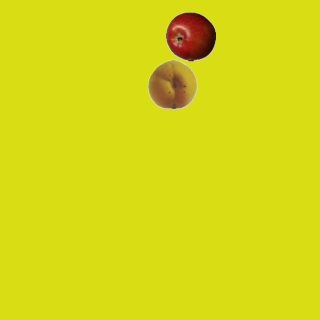Apple Braeburn: (165, 11, 215, 61)
Peach 2: (147, 58, 197, 108)
